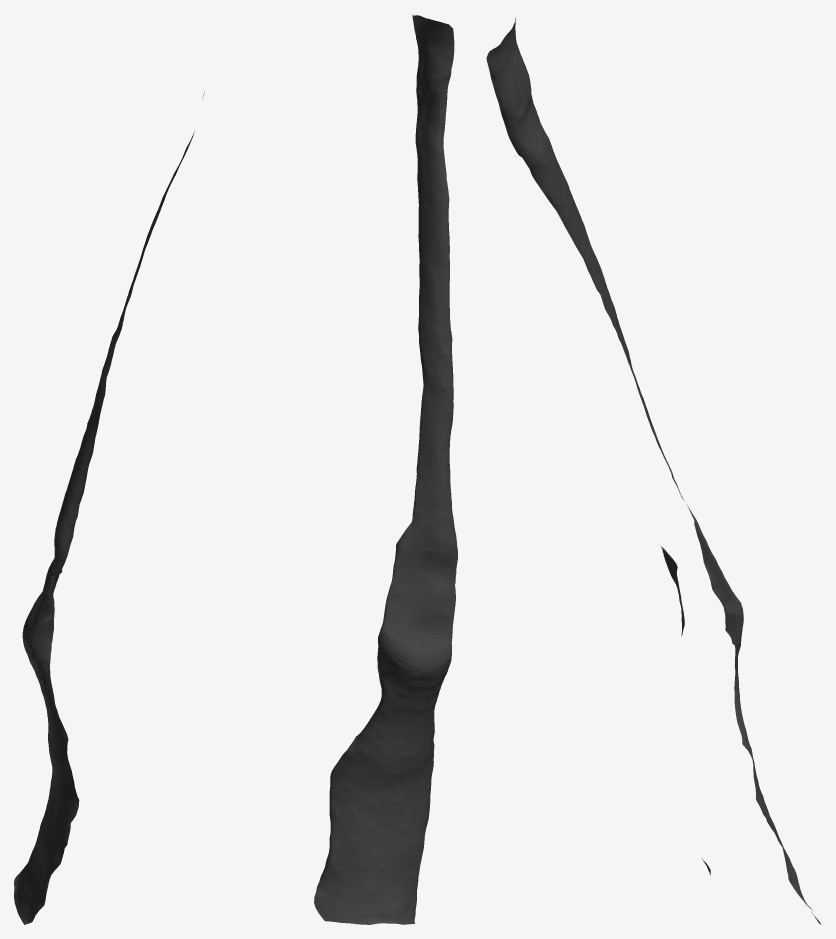
The model's file is eq_dist_limb_Common_Digital_Ext_Tendon.glb.
3 views of the same model, side by side, from view 1: azimuth 30°, elevation 25°; view 2: azimuth 150°, elevation 25°; view 3: azimuth 270°, elevation 25° (orthographic). The views are drawn at different scales.
Visible parts, largest first — view 1: eq_dist_limb_Common_Digital_Ext_Tendon; view 2: eq_dist_limb_Common_Digital_Ext_Tendon; view 3: eq_dist_limb_Common_Digital_Ext_Tendon.
Boxes of the visible parts, x1=… form: eq_dist_limb_Common_Digital_Ext_Tendon: x1=14, y1=92, x2=204, y2=924; eq_dist_limb_Common_Digital_Ext_Tendon: x1=314, y1=14, x2=457, y2=924; eq_dist_limb_Common_Digital_Ext_Tendon: x1=486, y1=17, x2=820, y2=924.
Size of the model in its own units: 0.00931 by 0.057 by 0.0185.
1 material, 1 textured.
